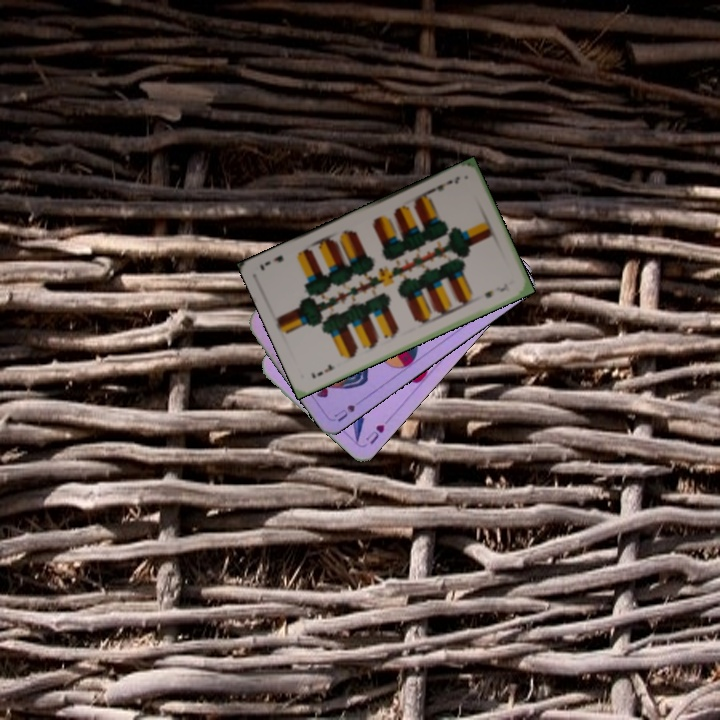E7: (427, 172, 463, 195), (307, 360, 337, 381)
HU: (361, 414, 392, 447)
SU: (330, 394, 367, 424)
